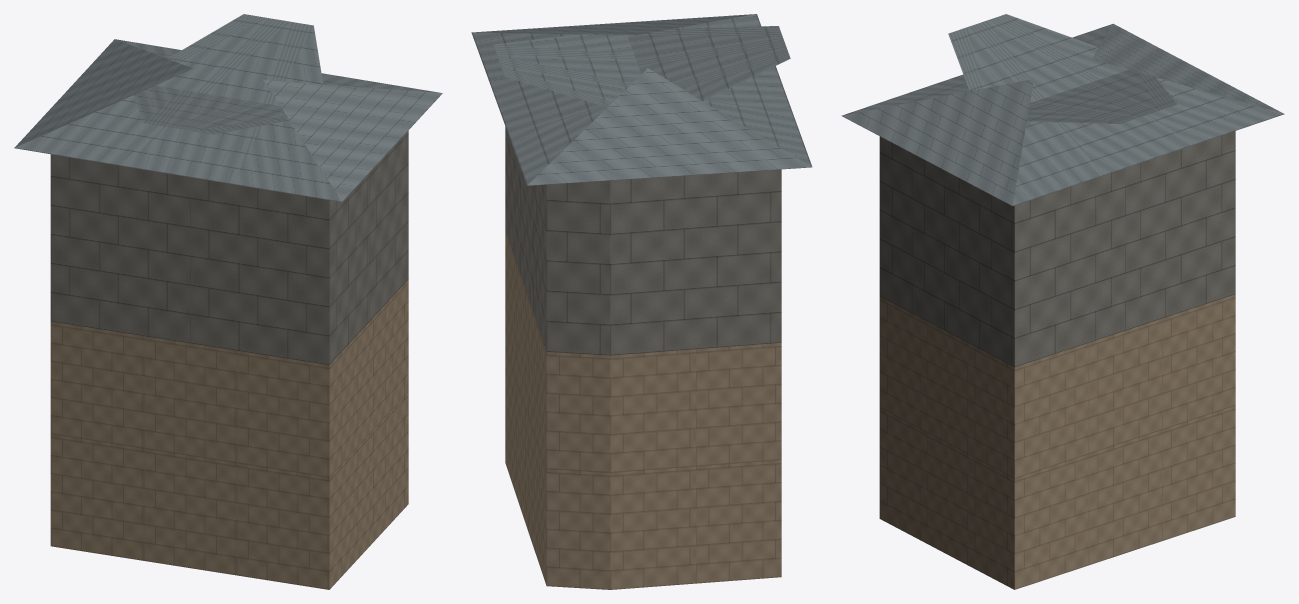
File: bld_c19_21_476.gltf
3 renders of one model, left to right at view 1: azimuth 30°, elevation 25°; view 2: azimuth 150°, elevation 25°; view 3: azimuth 270°, elevation 25°, orthographic. The views are drawn at different scales.
Visible parts, largest first — view 1: bld_c19_21_476; view 2: bld_c19_21_476; view 3: bld_c19_21_476.
Part boxes in pixels (box(x1,y1,x2,y2)): bld_c19_21_476: box(14, 14, 442, 589); bld_c19_21_476: box(471, 14, 812, 589); bld_c19_21_476: box(841, 14, 1284, 589).
Size of the model in its own units: 8.53 by 9.7 by 8.75.
Materials: 3 (3 with a texture image).
